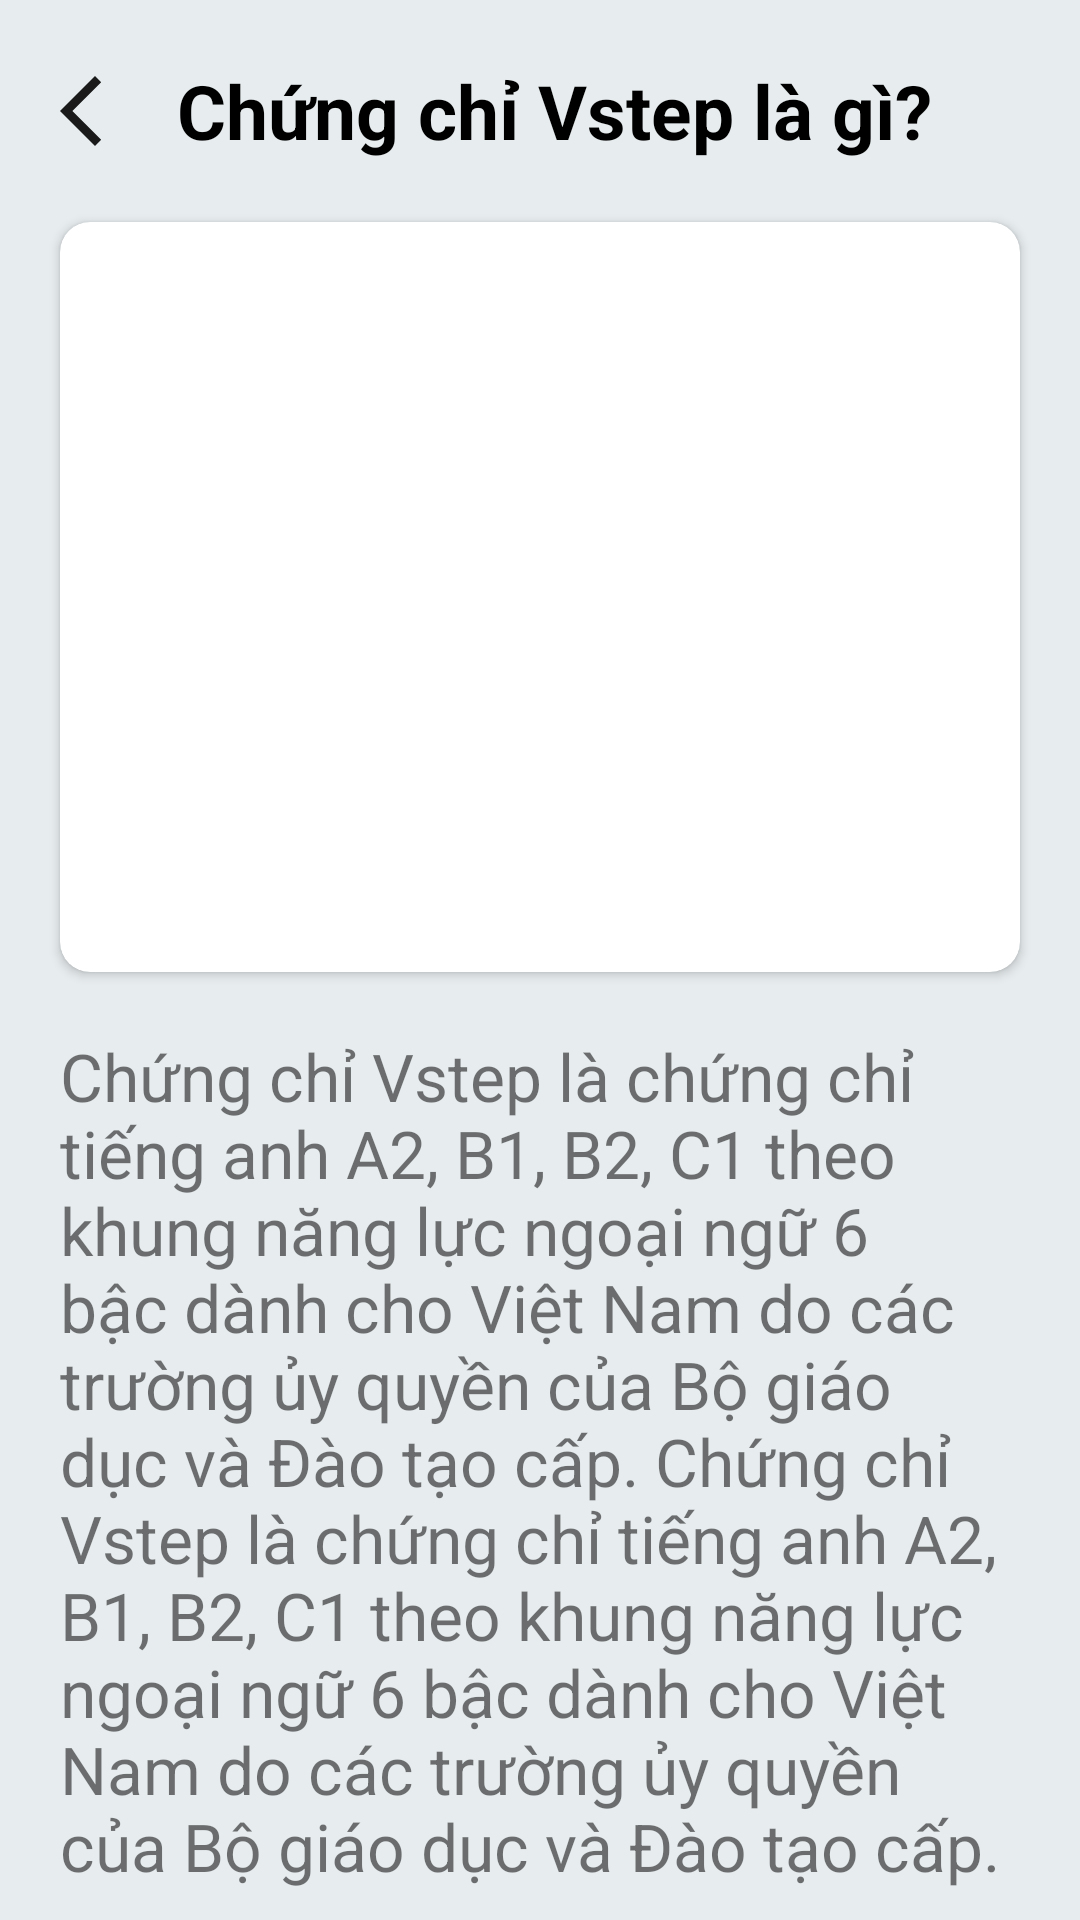

Screen size 1080×1920. Icon name, then its box in pixels as (left=x1, top=y1, right=x2, bottom=y2):
back: (left=60, top=76, right=101, bottom=146)
